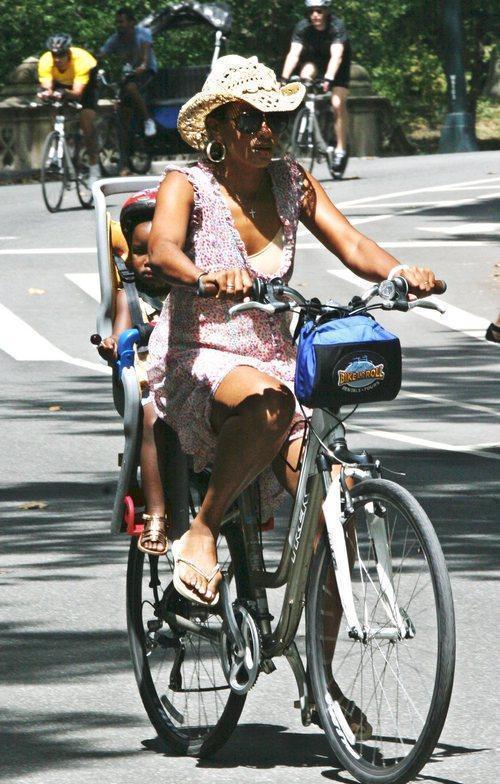person: (152, 57, 438, 745)
